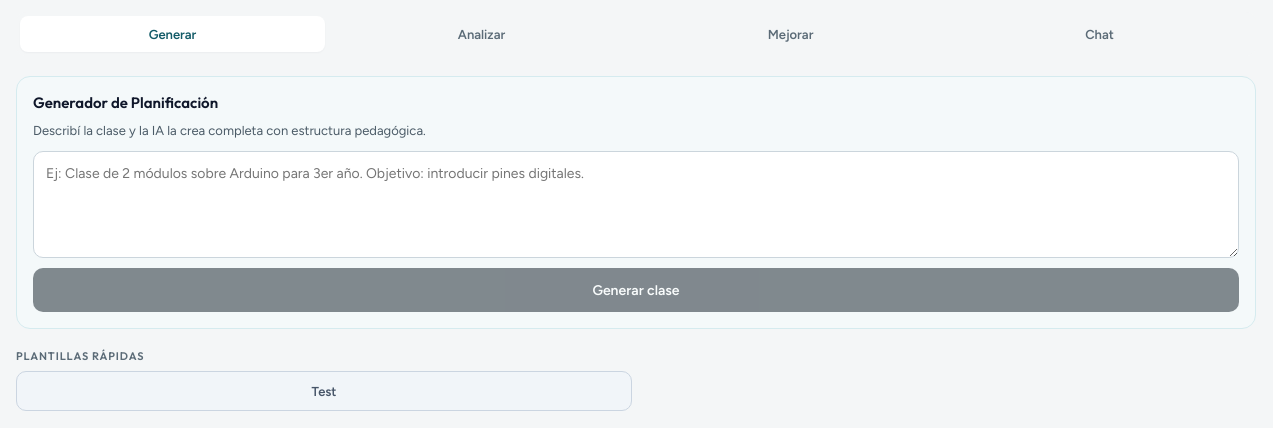
it: AiSidebar › shows global chat mode message when no doc is selected
Click the tab "Chat".
click(1100, 34)  # box [947,16,1252,52]
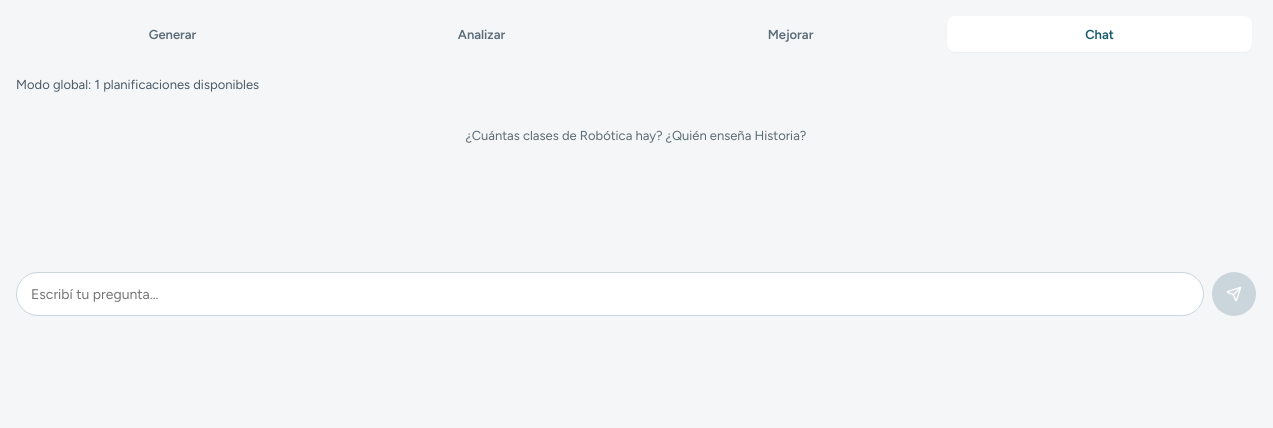
Expected: the text "Modo global: 1 planificaciones disponibles" is shown, [16,77,259,92]
